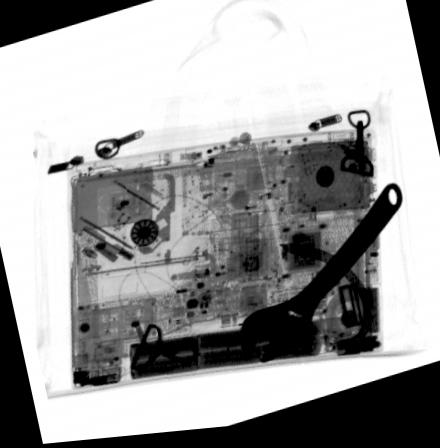Wrench: (238, 188, 404, 368)
